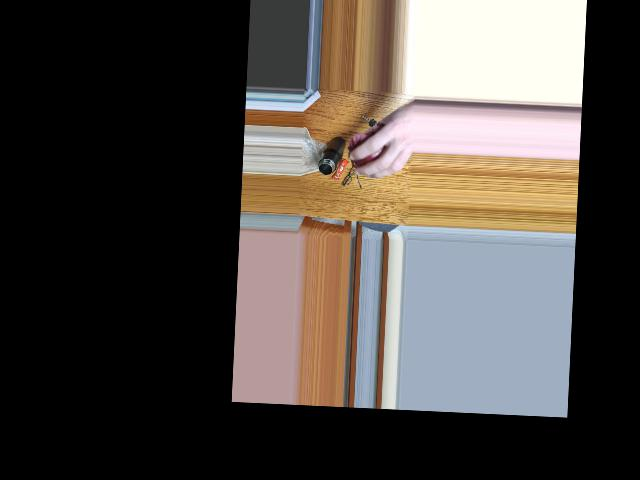onion: (355, 124, 390, 171)
